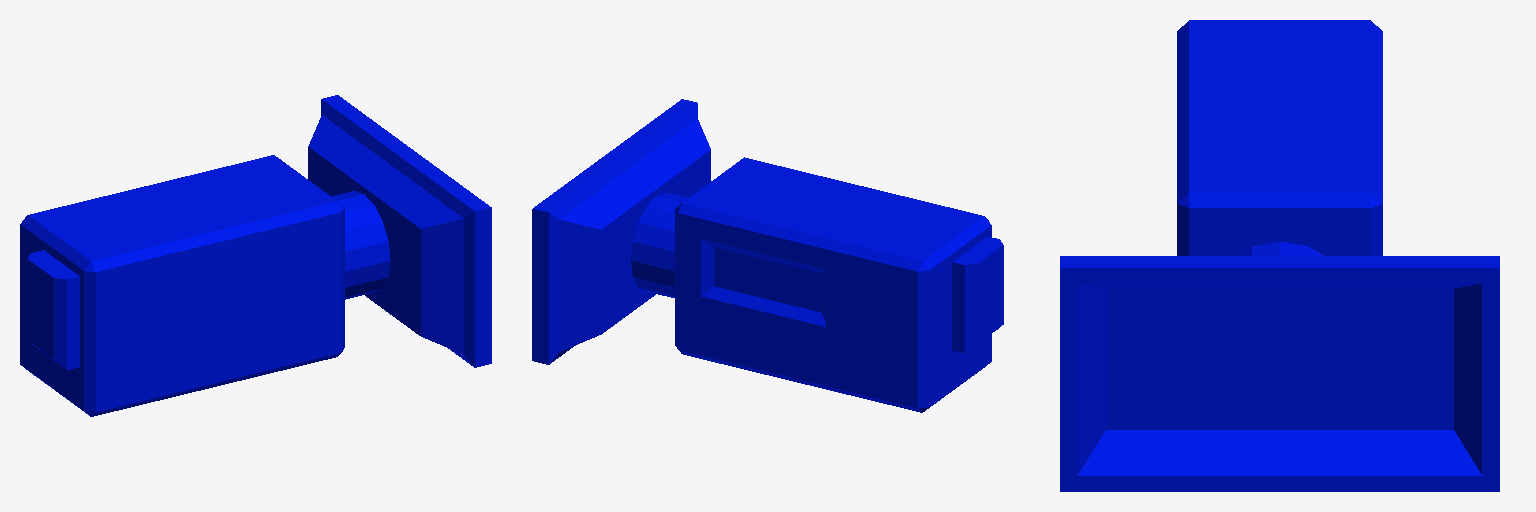
robot.urdf — floaty:
<robot name="floaty">
    <link name="base_link"/>
    <link name="camera_tilt_link"/>
    <link name="camera_link">
        <visual>
            <origin rpy="0 0 0" xyz="0 0 0" />
            <geometry>
                <mesh filename="package://gebsyas/meshes/camera.dae" />
            </geometry>
        </visual>
        <collision>
            <origin rpy="0 0 0" xyz="0 0 0" />
            <geometry>
                <mesh filename="package://gebsyas/meshes/camera.dae" />
            </geometry>
        </collision>
    </link>

    <joint name="camera_lift_joint" type="prismatic">
        <parent link="base_link"/>
        <child  link="camera_tilt_link"/>
        <axis xyz="0 0 1"/>
        <limit lower="0.9" upper="1.5" effort="100" velocity="0.5"/>
    </joint>

    <joint name="camera_tilt_joint" type="revolute">
        <parent link="camera_tilt_link"/>
        <child  link="camera_link"/>
        <axis xyz="0 1 0"/>
        <limit lower="-1.2" upper="1.2" effort="100" velocity="0.5"/>
    </joint>
</robot>

--- What the picture shows (computed from the rendered views, not written in the file) ---
3 views of the same robot in one strip: view 1: azimuth 30°, elevation 25°; view 2: azimuth 150°, elevation 25°; view 3: azimuth 270°, elevation 25° (orthographic).
Model floaty with 3 links and 2 joints (1 revolute, 1 prismatic), rooted at base_link, posed joints at zero except 1 at the middle of their limits (camera_lift_joint = 1.2).
Visible links, largest first — view 1: camera_link; view 2: camera_link; view 3: camera_link.
Boxes of the visible links, left/top/right/bottom form: camera_link: left=20, top=95, right=491, bottom=416; camera_link: left=532, top=99, right=1003, bottom=412; camera_link: left=1060, top=20, right=1499, bottom=491.
Bounding box of the posed robot: 0.9229 × 0.64 × 0.36 m (x, y, z).
1 mesh visuals loaded from 1 distinct referenced files (1 Collada DAE).
